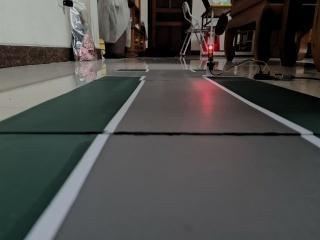red: (203, 41, 219, 69)
